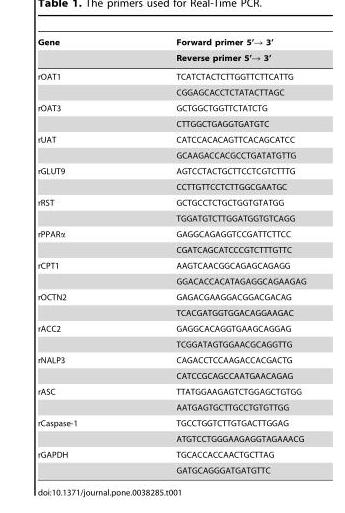table: (37, 37, 305, 474)
table column: (126, 37, 305, 474), (37, 37, 126, 474)
table column header: (37, 37, 305, 67)
table row: (37, 49, 305, 67), (37, 67, 305, 84), (37, 84, 305, 100), (37, 115, 305, 131), (37, 131, 305, 147), (37, 147, 305, 163), (37, 178, 305, 194), (37, 194, 305, 210), (37, 210, 305, 226), (37, 241, 305, 257), (37, 257, 305, 273), (37, 273, 305, 289), (37, 304, 305, 320), (37, 320, 305, 336), (37, 336, 305, 352), (37, 367, 305, 383), (37, 383, 305, 399), (37, 399, 305, 415), (37, 430, 305, 446), (37, 446, 305, 462), (37, 100, 305, 115), (37, 163, 305, 178), (37, 226, 305, 241), (37, 289, 305, 304), (37, 352, 305, 367), (37, 415, 305, 430), (37, 37, 305, 49), (37, 462, 305, 474)
table spanning cell: (126, 37, 305, 67), (37, 67, 126, 100), (37, 131, 126, 163), (37, 194, 126, 226), (37, 257, 126, 289), (37, 320, 126, 352), (37, 383, 126, 415), (37, 100, 126, 131), (37, 163, 126, 194), (37, 226, 126, 257), (37, 289, 126, 320), (37, 352, 126, 383), (37, 415, 126, 446), (37, 37, 126, 67), (37, 446, 126, 474)
